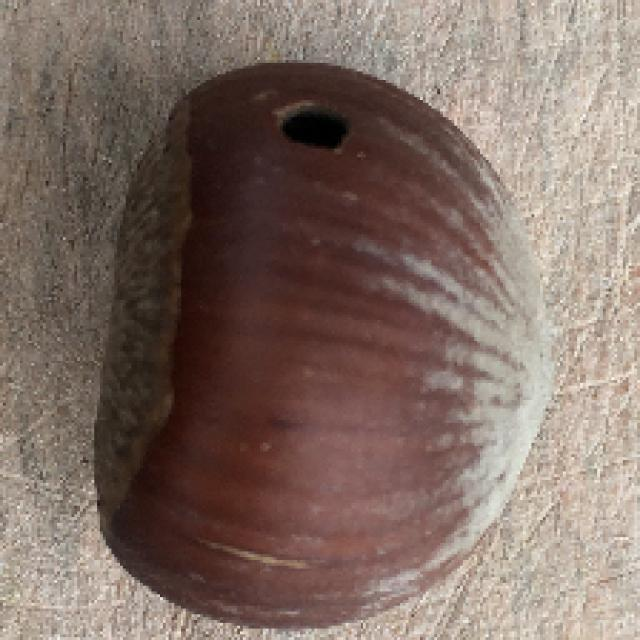damagedHazelnut: (92, 58, 558, 626)
